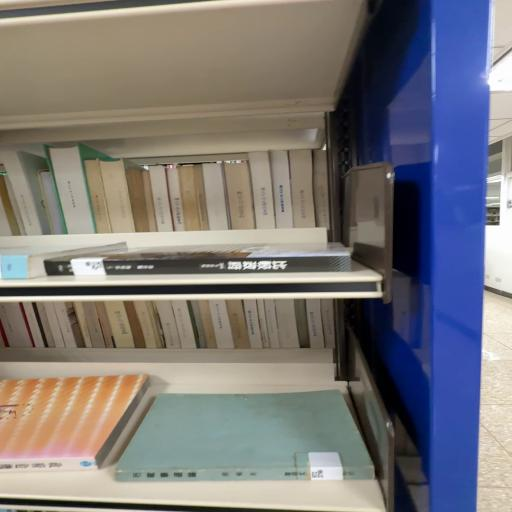flat: (115, 390, 374, 483), (0, 374, 149, 474), (45, 242, 351, 276)
